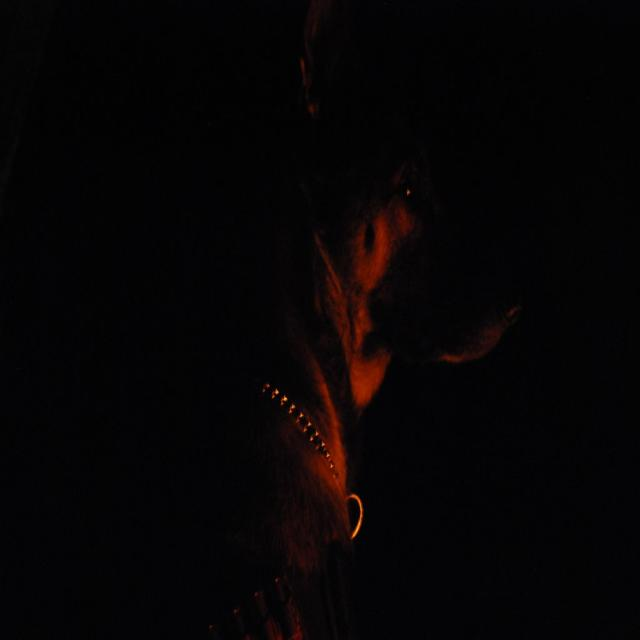Dog: (173, 107, 566, 601)
